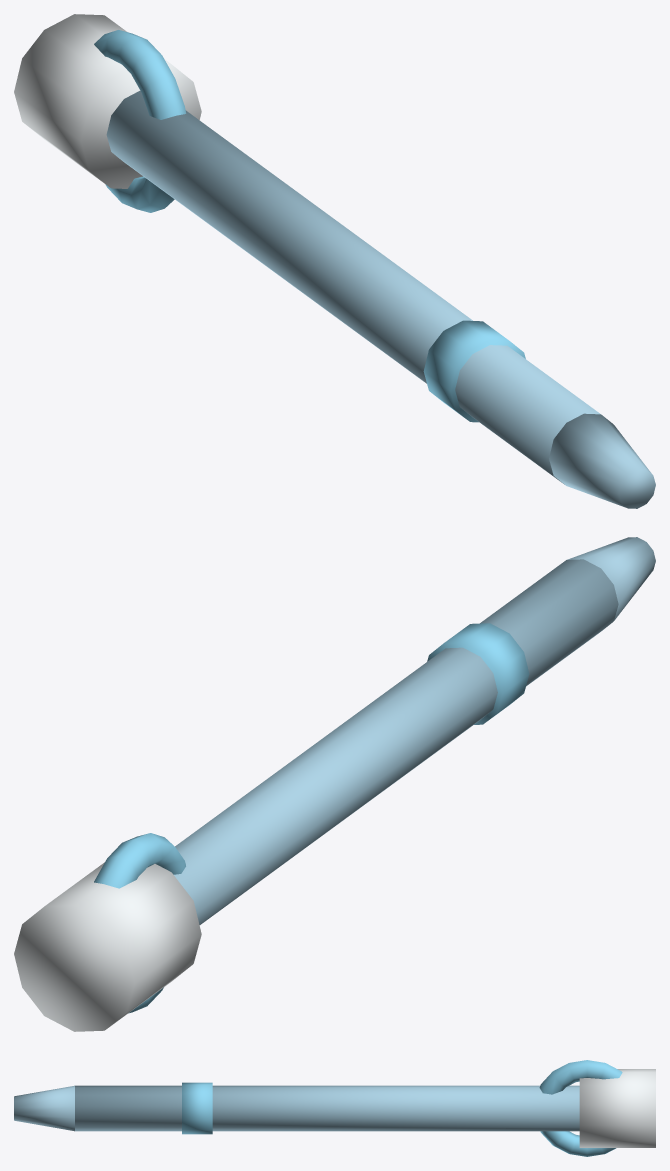
The model's file is sheath.glb.
The picture shows the model from 3 angles, top to bottom: view 1: azimuth 30°, elevation 25°; view 2: azimuth 150°, elevation 25°; view 3: azimuth 270°, elevation 25°; orthographic projection. The views are drawn at different scales.
Parts seen in each view (by area): view 1: sheath; view 2: sheath; view 3: sheath.
Part boxes in pixels (bbox=[...]): sheath: bbox=[14, 14, 655, 508]; sheath: bbox=[14, 537, 655, 1031]; sheath: bbox=[14, 1060, 655, 1156].
Bounding box in the file's own units: 0.052 × 0.07 × 0.42.
